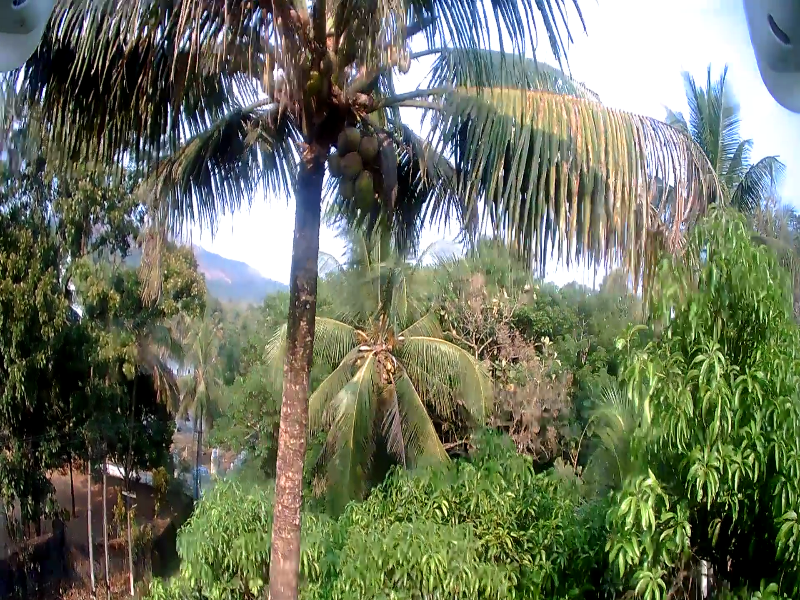coconut: (353, 168, 371, 199), (335, 177, 354, 199), (346, 127, 361, 147), (340, 153, 356, 171), (361, 132, 386, 143), (327, 153, 339, 172)
